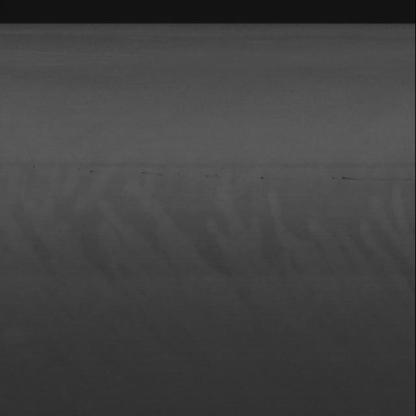inclusion: (76, 167, 182, 177), (332, 174, 408, 184), (200, 172, 275, 182)
water_spot: (27, 185, 400, 263)
